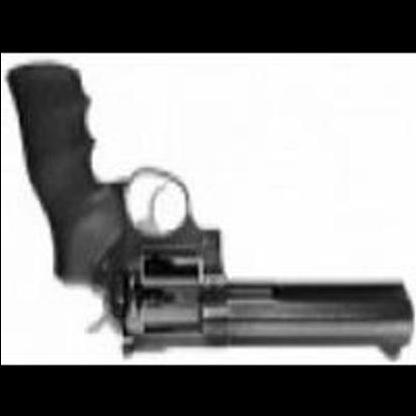weapon: (7, 56, 416, 364)
